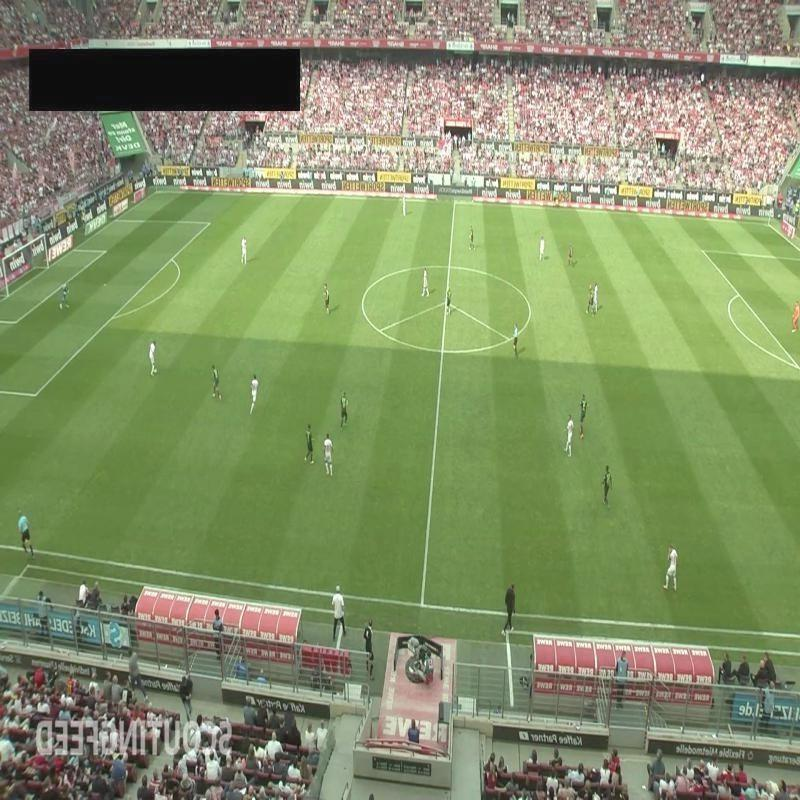1: (150, 184, 164, 198), (762, 222, 774, 228)
10: (164, 254, 178, 268), (732, 288, 746, 302)
11: (103, 308, 123, 328), (795, 358, 800, 376)
12: (27, 385, 42, 404)
13: (447, 195, 462, 209)
14: (442, 260, 456, 274)
15: (435, 344, 449, 358)
16: (412, 594, 430, 616)
2: (108, 213, 123, 227)
3: (66, 244, 80, 258)
7: (98, 245, 112, 259)
8: (9, 316, 23, 330)
9: (203, 216, 216, 230), (697, 246, 708, 257)
c: (356, 296, 370, 310), (523, 305, 537, 318)
